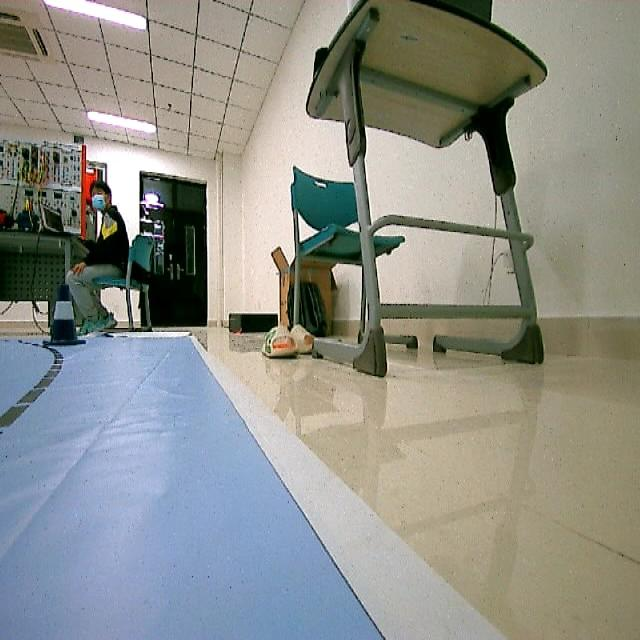obstacle: (42, 283, 84, 347)
